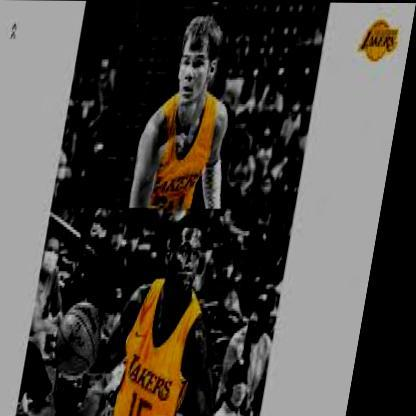basketball: (62, 300, 120, 380)
